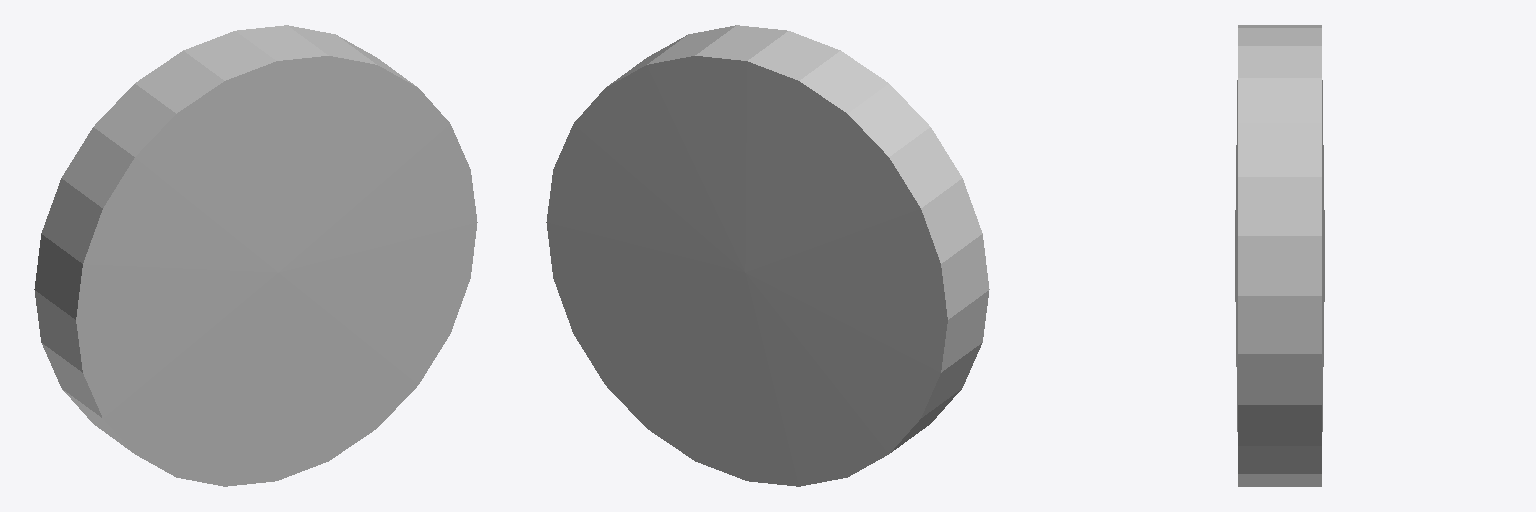
Rendered from Coin_LOD1.obj.
3 views of the same model, side by side, from view 1: azimuth 30°, elevation 25°; view 2: azimuth 150°, elevation 25°; view 3: azimuth 270°, elevation 25° (orthographic).
Parts seen in each view (by area): view 1: Coin__BodyMT_Mesh; view 2: Coin__BodyMT_Mesh; view 3: Coin__BodyMT_Mesh.
Part boxes in pixels (bbox=[...]): Coin__BodyMT_Mesh: bbox=[34, 25, 477, 486]; Coin__BodyMT_Mesh: bbox=[546, 25, 989, 486]; Coin__BodyMT_Mesh: bbox=[1235, 25, 1324, 486].
Size of the model in its own units: 2.12 by 2.12 by 0.4134.